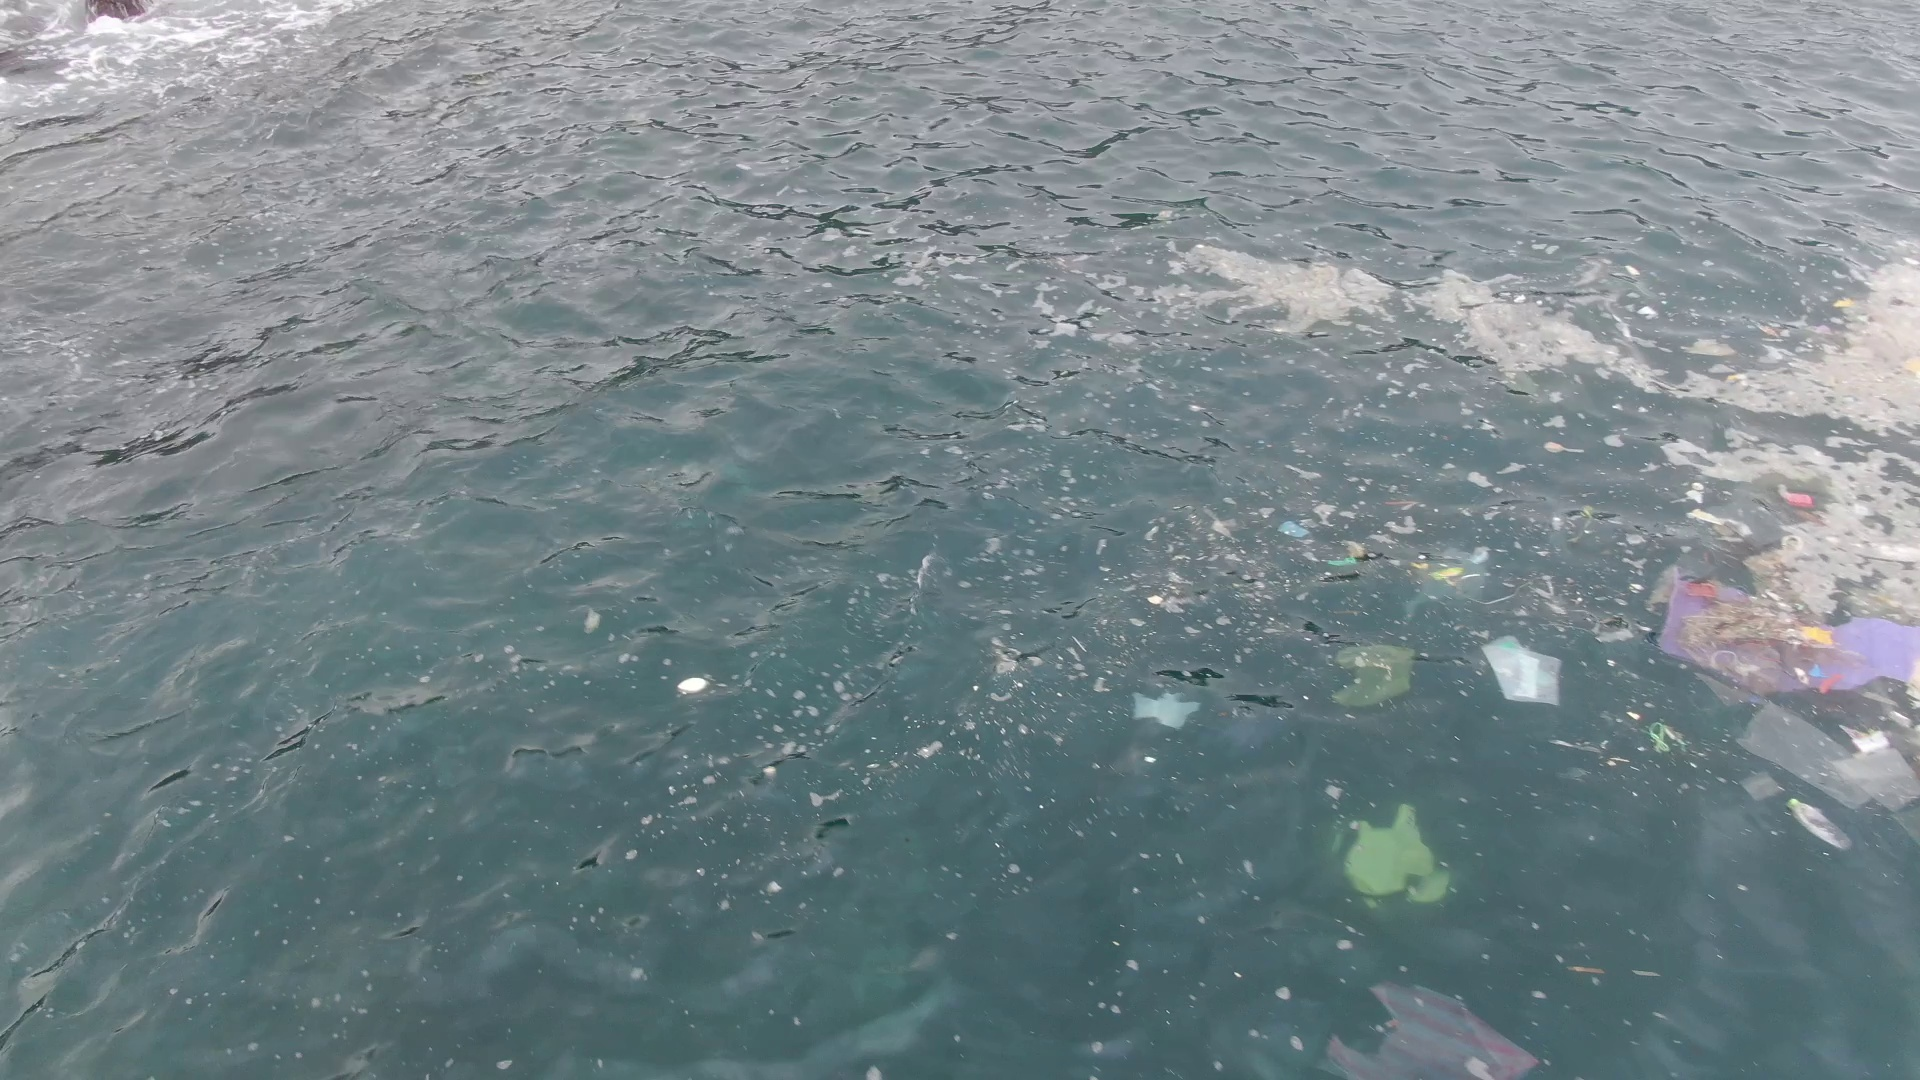bottle: (1785, 795, 1855, 856)
garbage: (1644, 556, 1920, 709), (1327, 982, 1542, 1080), (1737, 705, 1920, 804), (1344, 803, 1452, 899), (1480, 633, 1565, 705), (1336, 641, 1416, 705), (1129, 691, 1200, 725), (1647, 721, 1687, 752), (1324, 539, 1367, 564), (1779, 488, 1813, 506), (1276, 520, 1309, 537), (1544, 440, 1585, 454), (1429, 566, 1462, 580), (675, 674, 705, 688), (1382, 498, 1422, 509), (1580, 501, 1596, 518), (1833, 297, 1857, 307), (1727, 372, 1747, 381)
